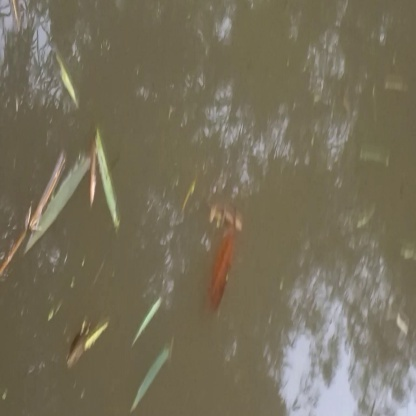leaf: (20, 129, 128, 249)
